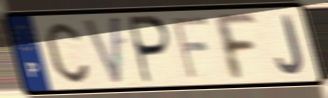C: (44, 20, 92, 85)
F: (209, 11, 259, 83), (170, 14, 212, 82)
J: (274, 13, 306, 77)
P: (128, 14, 174, 87)
V: (80, 13, 124, 89)
